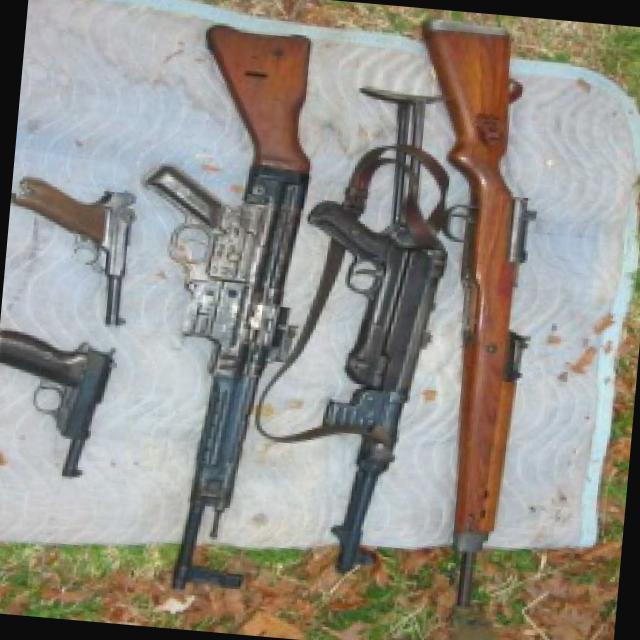long weapon: (328, 16, 580, 580), (123, 23, 318, 628), (264, 56, 468, 596)
